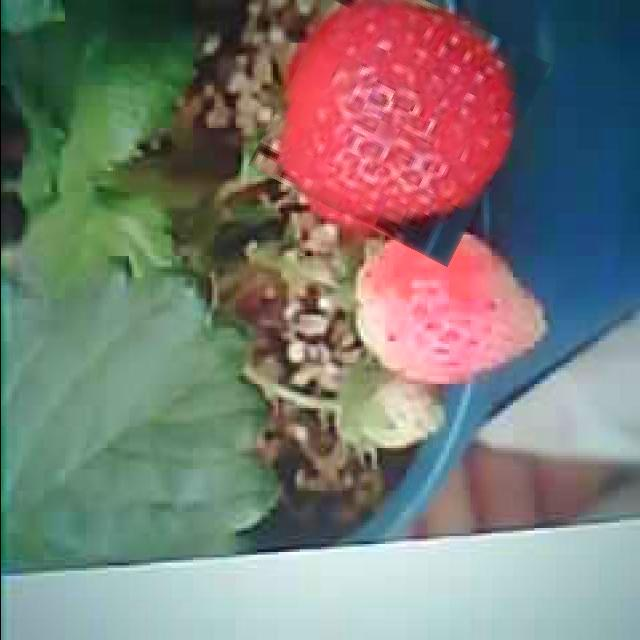strawberry: (266, 0, 530, 248)
